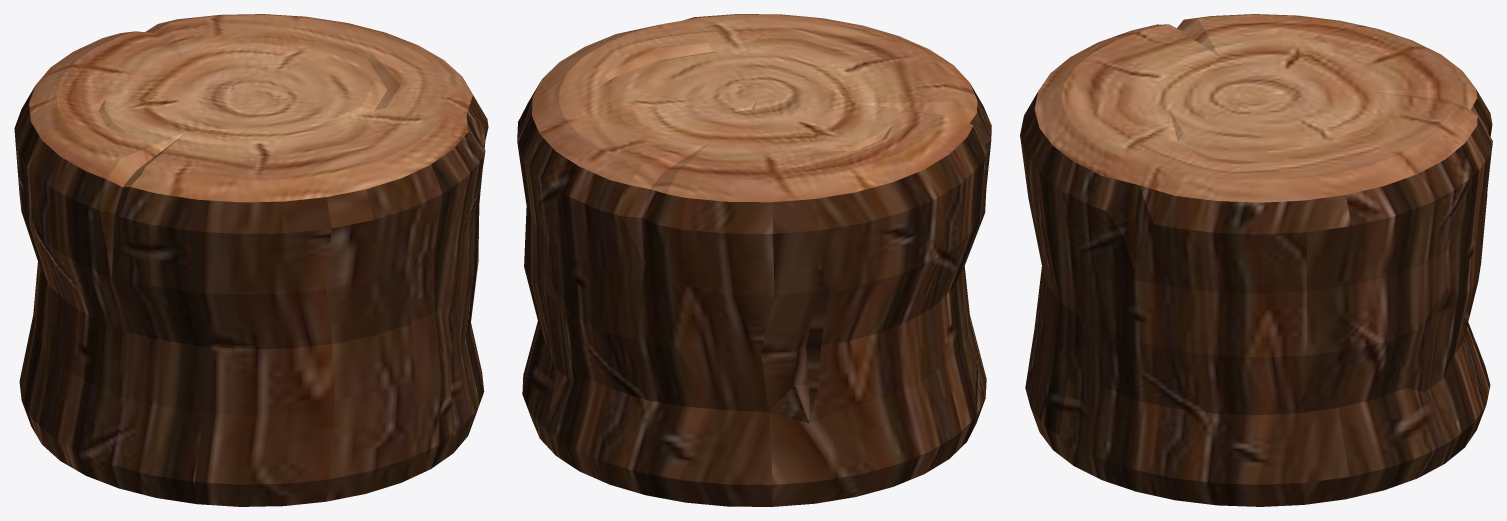
File: tree_stump.glb
The picture shows the model from 3 angles, left to right: view 1: azimuth 30°, elevation 25°; view 2: azimuth 150°, elevation 25°; view 3: azimuth 270°, elevation 25°; orthographic projection.
Parts seen in each view (by area): view 1: tree_stump; view 2: tree_stump; view 3: tree_stump.
Part boxes in pixels (x1,y1,x2,y2): tree_stump: (14,14,488,506); tree_stump: (517,14,991,506); tree_stump: (1020,14,1492,506).
Size of the model in its own units: 0.813 by 0.6164 by 0.8086.
1 material, 1 textured.
